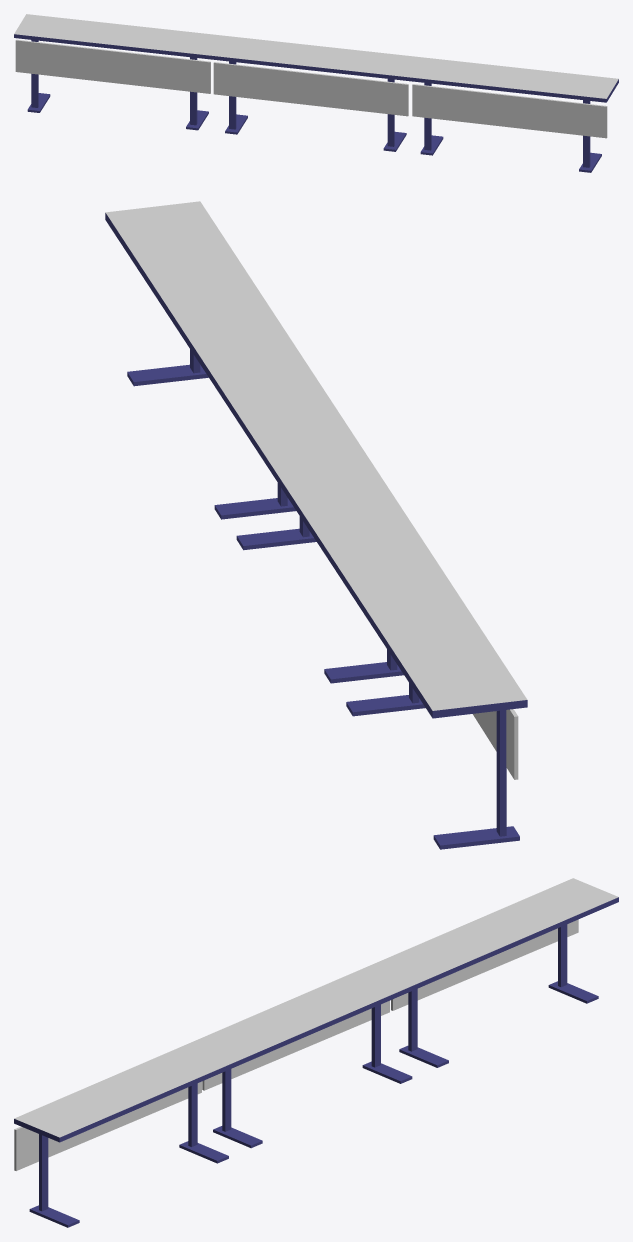
Rendered from A222banc.fbx.
3 renders of one model, top to bottom at view 1: azimuth 30°, elevation 25°; view 2: azimuth 150°, elevation 25°; view 3: azimuth 270°, elevation 25°, orthographic. The views are drawn at different scales.
Parts seen in each view (by area): view 1: polySurface7; view 2: polySurface7; view 3: polySurface7.
Boxes of the visible parts, x1,y1,x2,y2 form: polySurface7: (14,14,618,172); polySurface7: (105,201,527,849); polySurface7: (14,878,618,1227).
Size of the model in its own units: 33.95 by 6.05 by 33.44.
